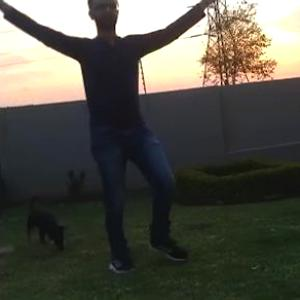takeoff: (11, 10, 204, 235)
